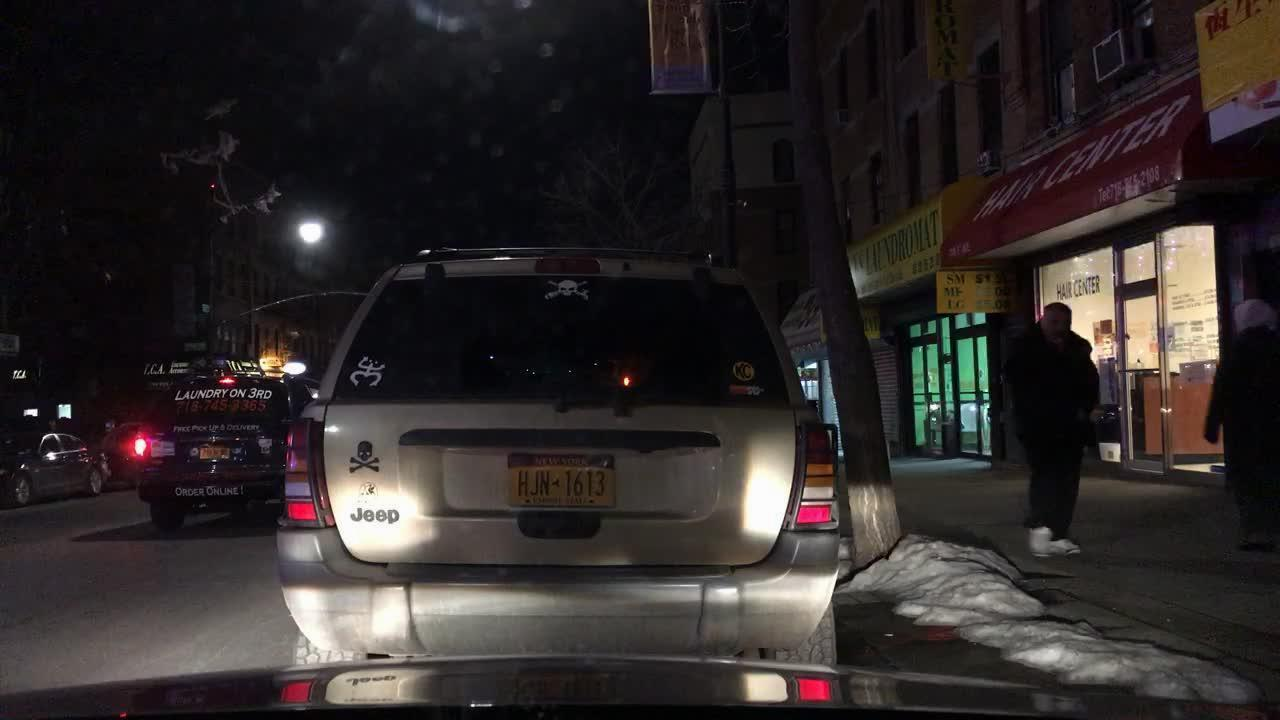jeep: (339, 497, 414, 537)
